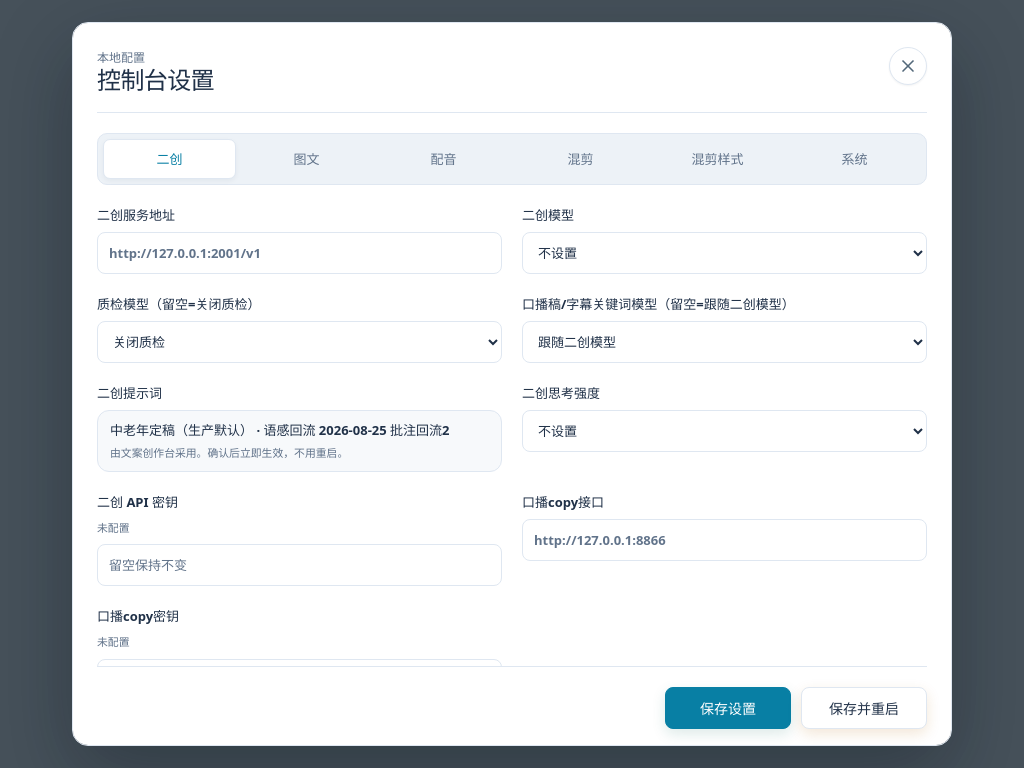
image tab only exposes service addresses and keys
This screenshot has width=1024, height=768.
Click the tab "图文".
click(306, 159)  # box [240,139,373,179]
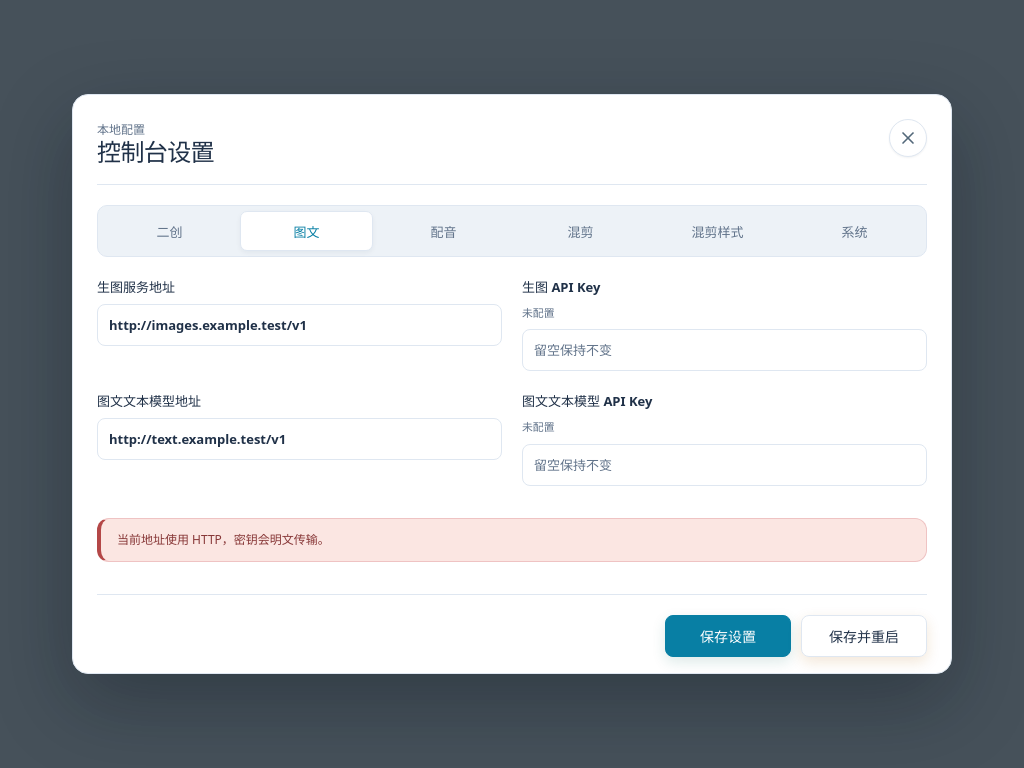
Expected: the field labelled "生图服务地址" is shown, [97,304,502,346]
Expected: the password field labelled "生图 API Key" is shown, [522,329,927,371]
Expected: the password field labelled "图文文本模型 API Key" is shown, [522,444,927,486]
